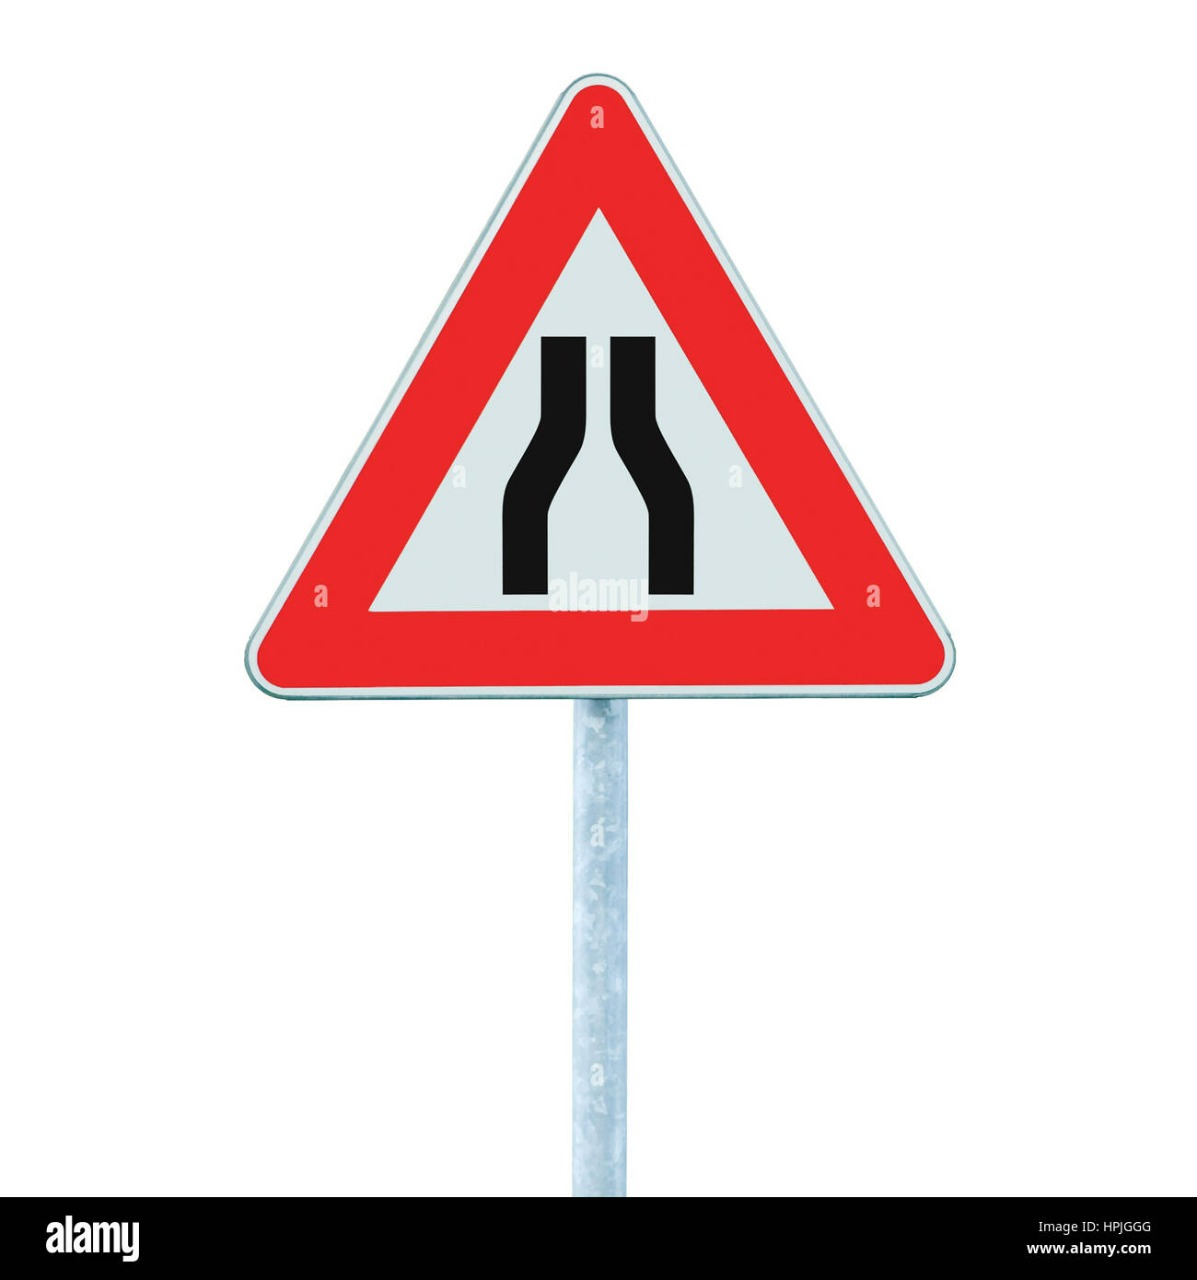narrow-road: (496, 326, 711, 623)
